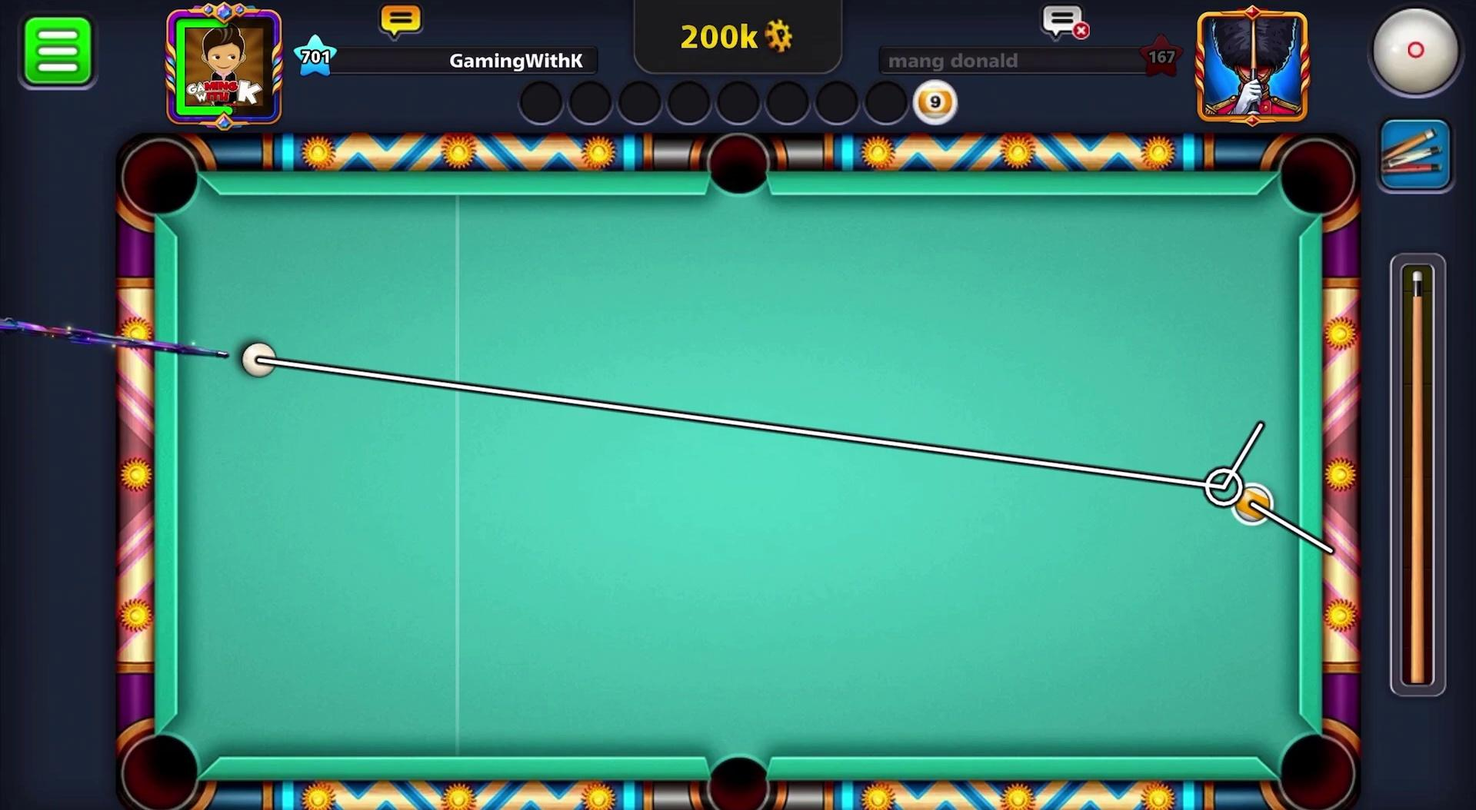Ball: (1224, 478, 1284, 535)
Force: (1387, 253, 1451, 703)
Guideline: (259, 346, 1346, 566)
Hole: (106, 127, 215, 232), (1269, 129, 1366, 230), (111, 719, 212, 809), (1265, 719, 1364, 809), (685, 735, 785, 809), (699, 129, 776, 205)
Play_Area: (185, 194, 1296, 775)
Spin: (1345, 0, 1475, 112)
White: (229, 333, 282, 385)
